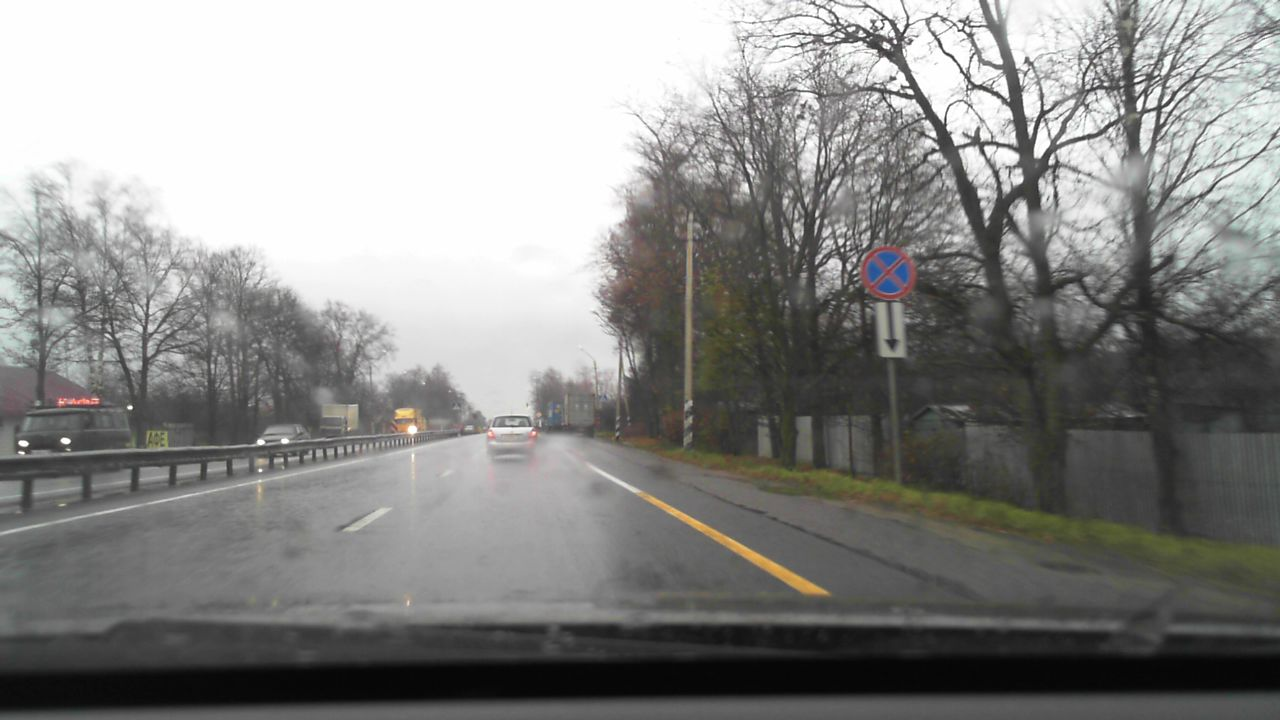No Parking: (861, 246, 915, 300)
